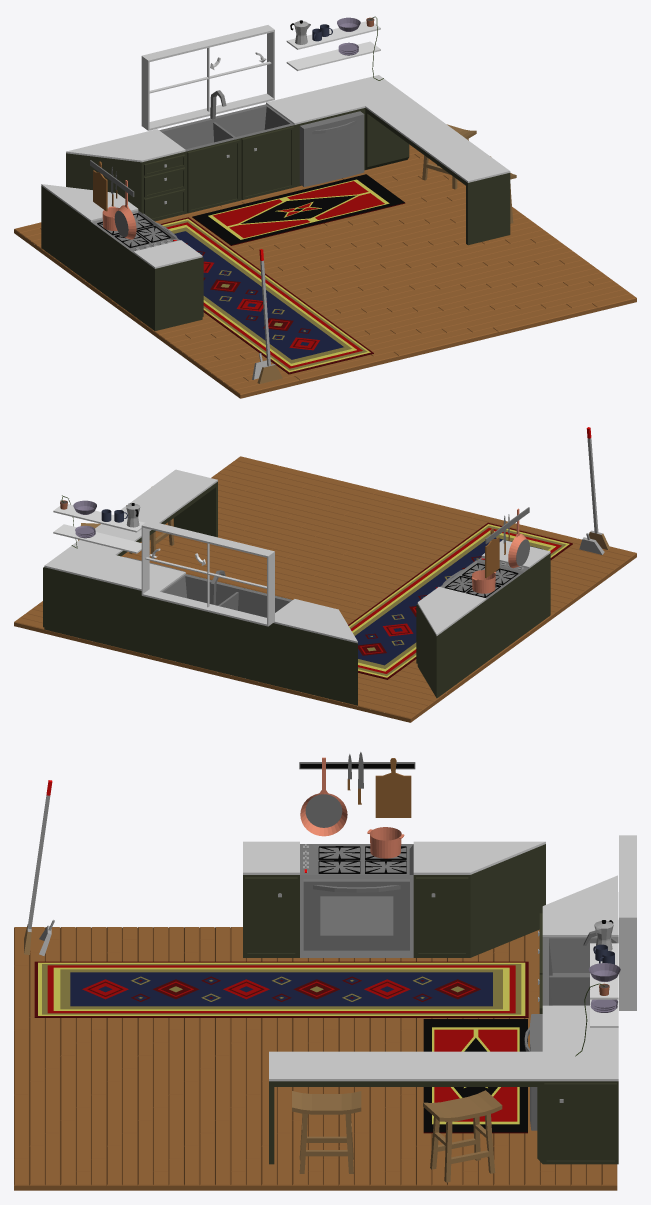
The model's file is level.gltf.
The picture shows the model from 3 angles, top to bottom: view 1: azimuth 30°, elevation 25°; view 2: azimuth 150°, elevation 25°; view 3: azimuth 270°, elevation 25°; orthographic projection. The views are drawn at different scales.
Parts seen in each view (by area): view 1: floor, counters, rug0, rug1, dishWasher, window, sink, shelves, oven, broom, pan; view 2: counters, floor, rug0, window, sink, shelves, oven, broom, pan, cuttingBoard, pot; view 3: floor, counters, rug0, ovenDoor, rug1, oven, stool.002, sink, window, stool.001, pan, cuttingBoard (+5 smaller).
Part boxes in pixels (bbox=[...]): floor: bbox=[14, 144, 636, 398]; counters: bbox=[41, 75, 510, 330]; rug0: bbox=[160, 217, 373, 374]; rug1: bbox=[192, 174, 405, 245]; dishWasher: bbox=[299, 111, 364, 186]; window: bbox=[141, 25, 274, 130]; sink: bbox=[159, 90, 293, 151]; shelves: bbox=[286, 21, 380, 70]; oven: bbox=[91, 210, 178, 252]; broom: bbox=[257, 249, 282, 383]; pan: bbox=[114, 180, 136, 239]; counters: bbox=[43, 469, 550, 705]; floor: bbox=[14, 456, 636, 722]; rug0: bbox=[348, 522, 572, 679]; window: bbox=[141, 520, 274, 626]; sink: bbox=[161, 570, 292, 617]; shelves: bbox=[53, 504, 144, 553]; oven: bbox=[441, 557, 528, 599]; broom: bbox=[586, 427, 609, 549]; pan: bbox=[508, 508, 529, 568]; cuttingBoard: bbox=[485, 528, 499, 577]; pot: bbox=[471, 570, 496, 593]; floor: bbox=[14, 927, 617, 1190]; counters: bbox=[243, 841, 618, 1164]; rug0: bbox=[34, 961, 528, 1017]; ovenDoor: bbox=[303, 879, 409, 950]; rug1: bbox=[423, 1019, 527, 1133]; oven: bbox=[300, 844, 413, 957]; stool.002: bbox=[423, 1090, 502, 1182]; sink: bbox=[542, 930, 618, 1005]; window: bbox=[619, 835, 636, 1010]; stool.001: bbox=[292, 1091, 361, 1173]; pan: bbox=[300, 757, 347, 836]; cuttingBoard: bbox=[375, 758, 411, 817].
Size of what is drawn, in the model's own units: 16.18 by 5.69 by 16.4.
